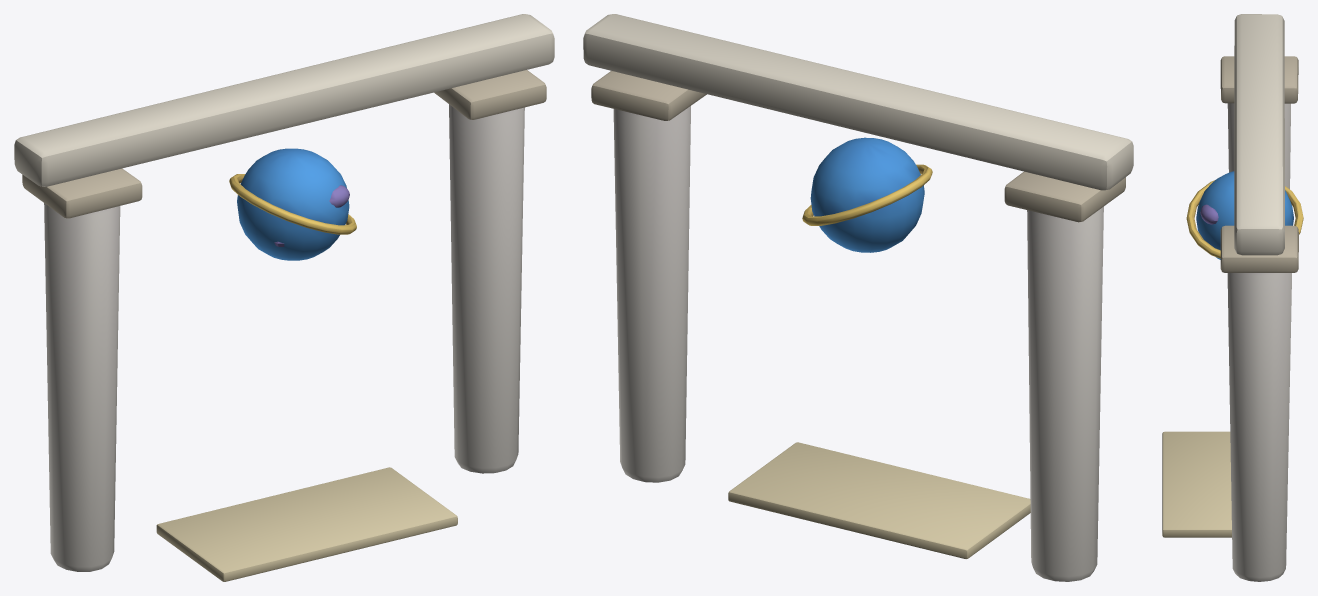
3 views of the same model, side by side, from view 1: azimuth 30°, elevation 25°; view 2: azimuth 150°, elevation 25°; view 3: azimuth 270°, elevation 25° (orthographic). The views are drawn at different scales.
Parts seen in each view (by area): view 1: gate_53d1baf9; view 2: gate_53d1baf9; view 3: gate_53d1baf9.
Part boxes in pixels (<box>): gate_53d1baf9: <box>14,14,554,581</box>; gate_53d1baf9: <box>583,14,1133,581</box>; gate_53d1baf9: <box>1162,14,1303,581</box>.
Bounding box in the file's own units: 5.28 × 4.2 × 1.45.
